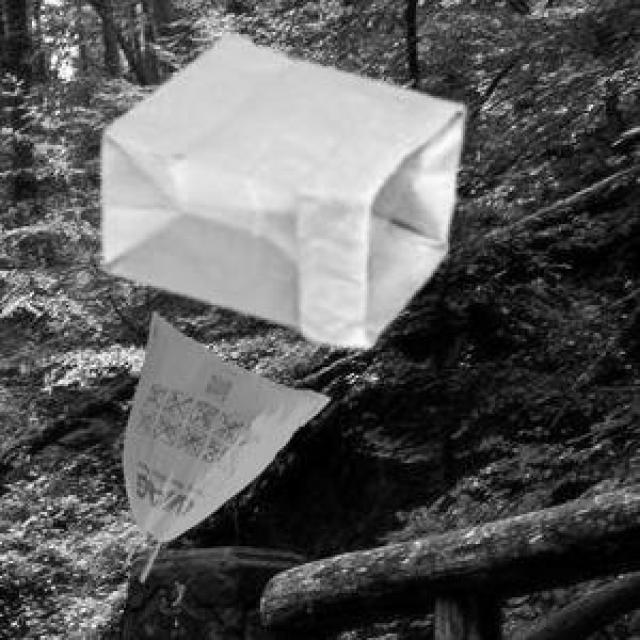paper: (98, 32, 461, 344)
